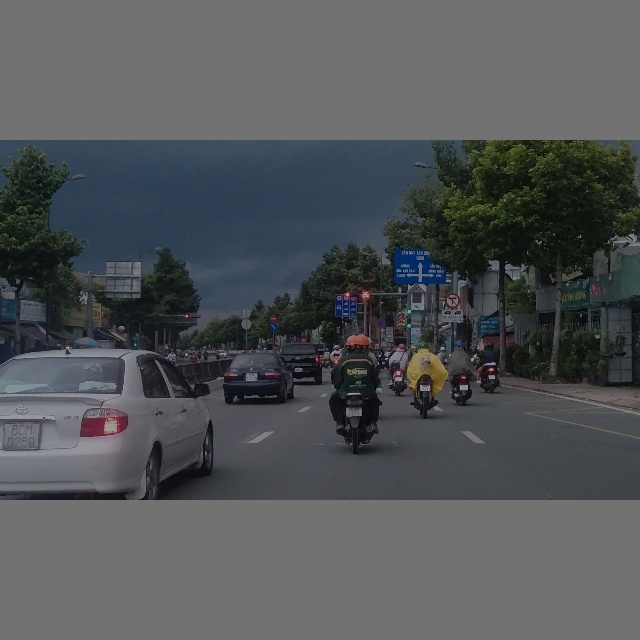P.102: (269, 315, 278, 323)
P.131a: (376, 318, 385, 327)
P.137: (445, 293, 461, 309)
R.302a: (269, 322, 278, 330)
R.415a: (335, 300, 356, 317)
